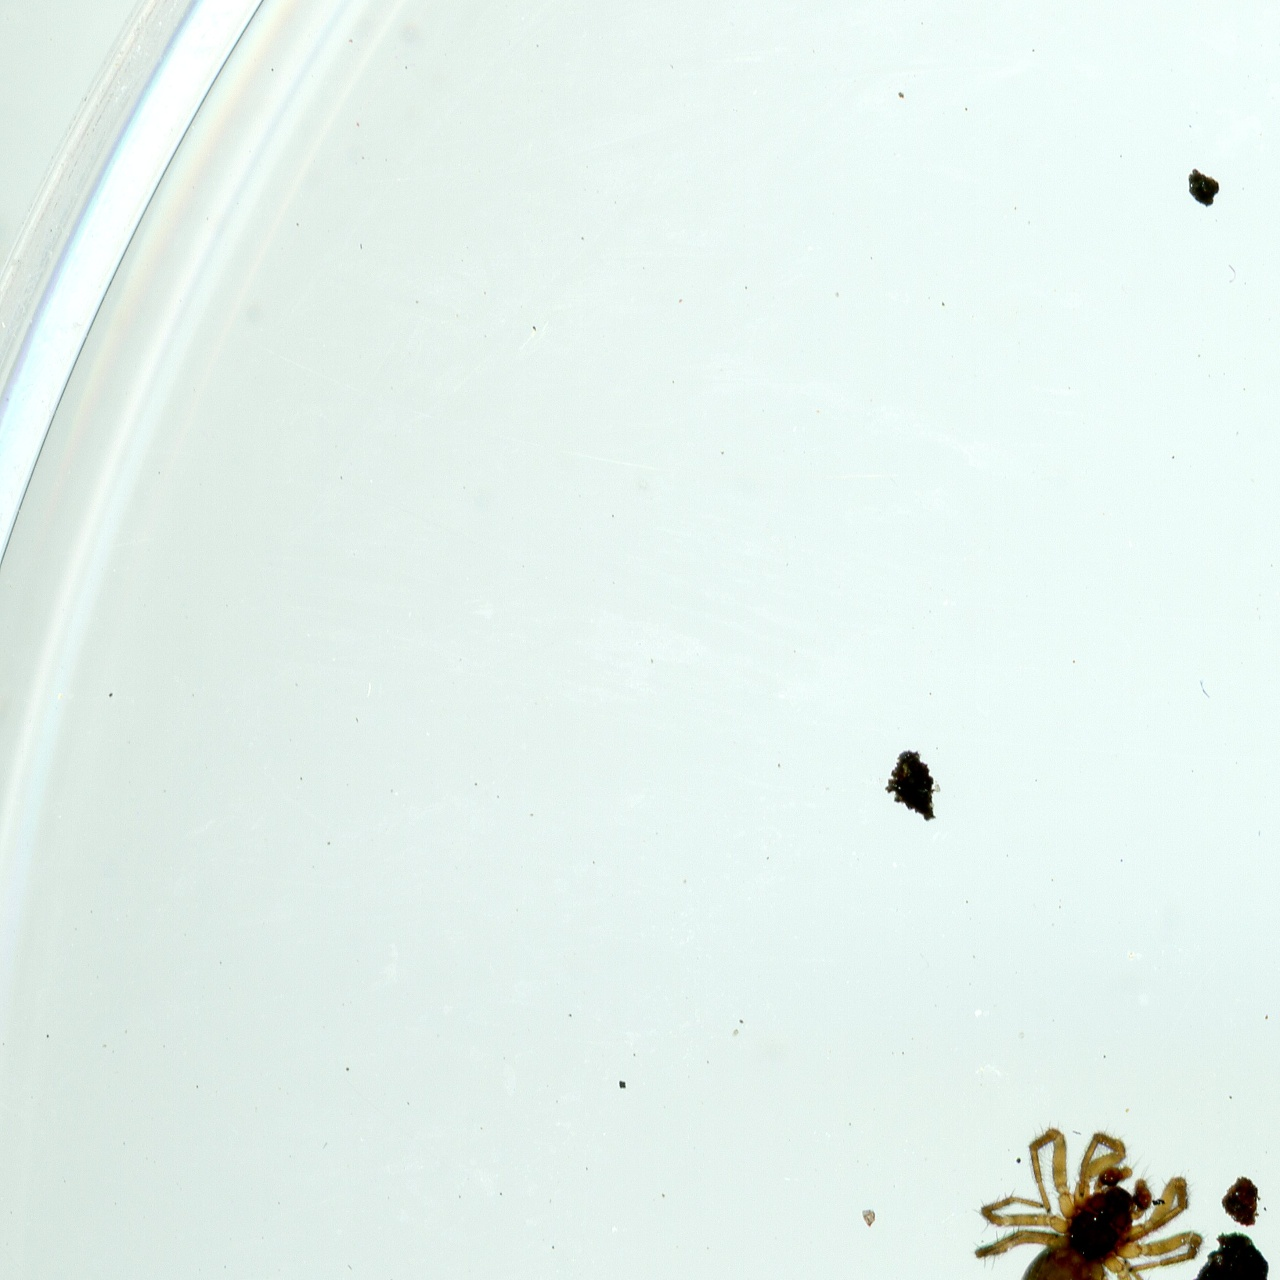arthropod: (960, 1118, 1207, 1280)
